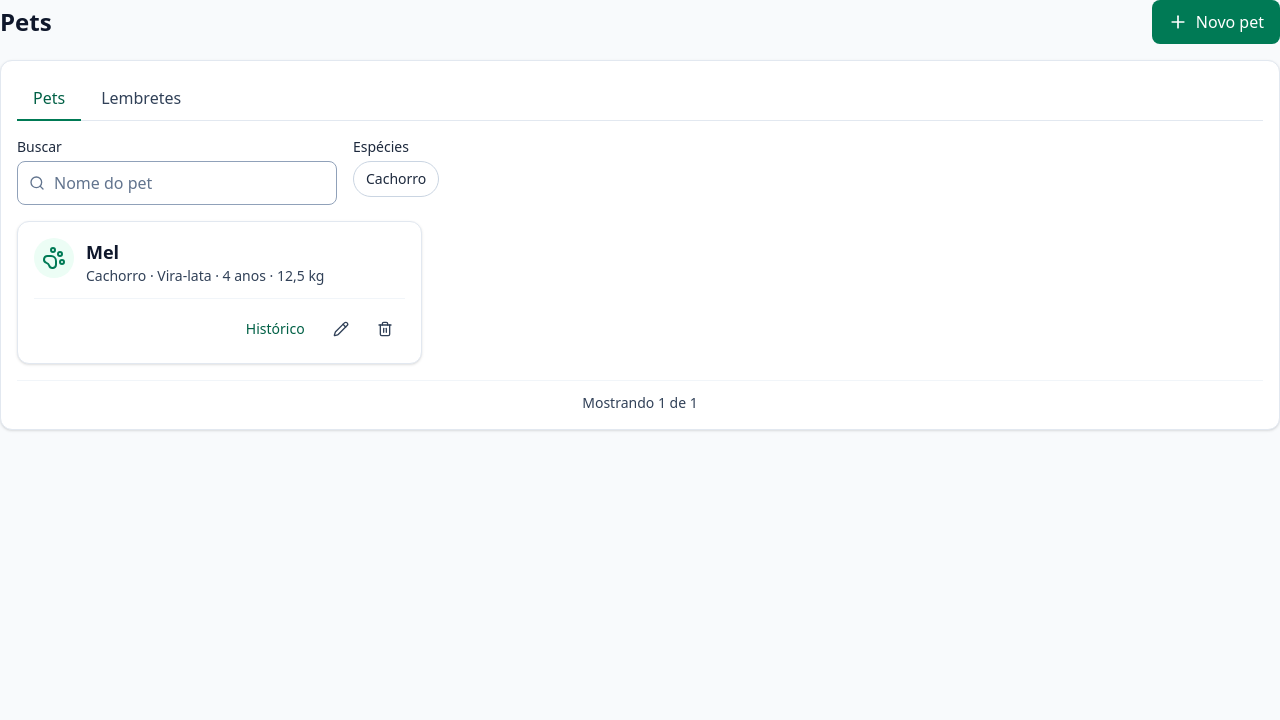
Test: PetsPage › deleting a pet warns that events go and expenses stay without the link
The image size is (1280, 720).
Click the button named "Excluir Mel" at (385, 329), box [365, 311, 405, 347]
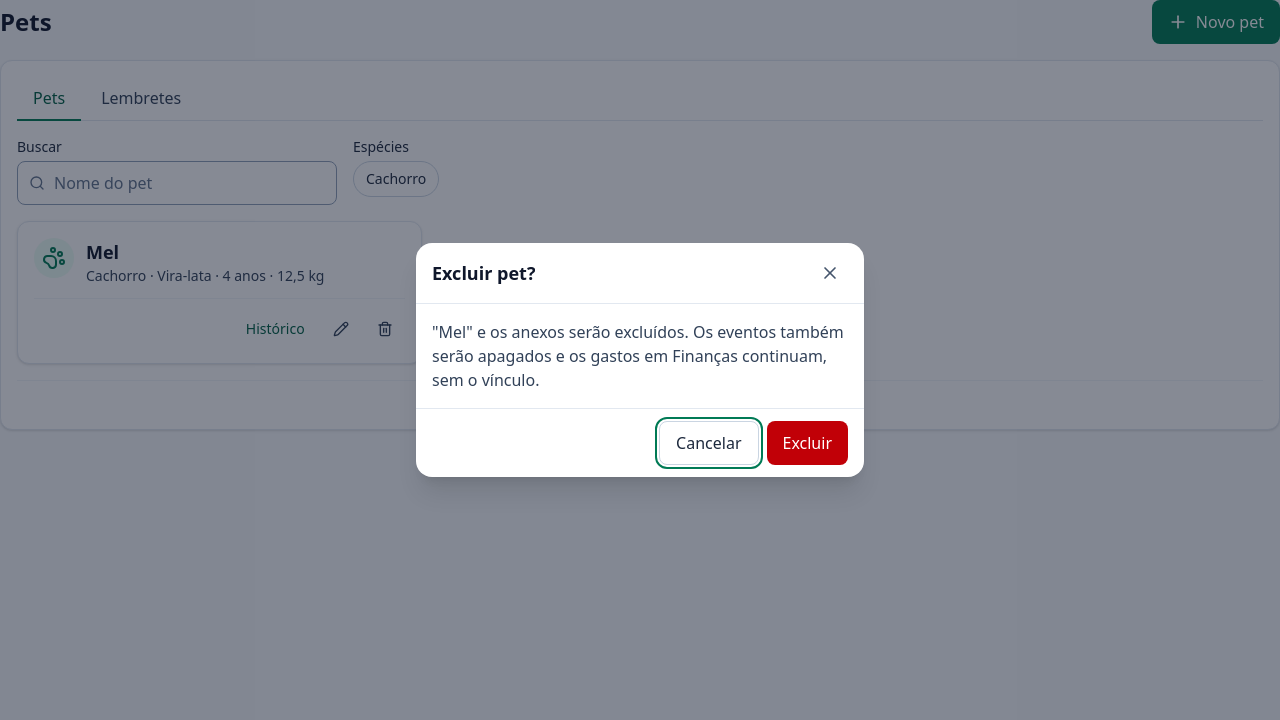
Now the dialog "Excluir pet?" shows "Os eventos também serão apagados e os gastos em Finanças continuam, sem o vínculo.", box [432, 321, 844, 391]
Click the button "Excluir" at (807, 443), box [766, 421, 848, 465]
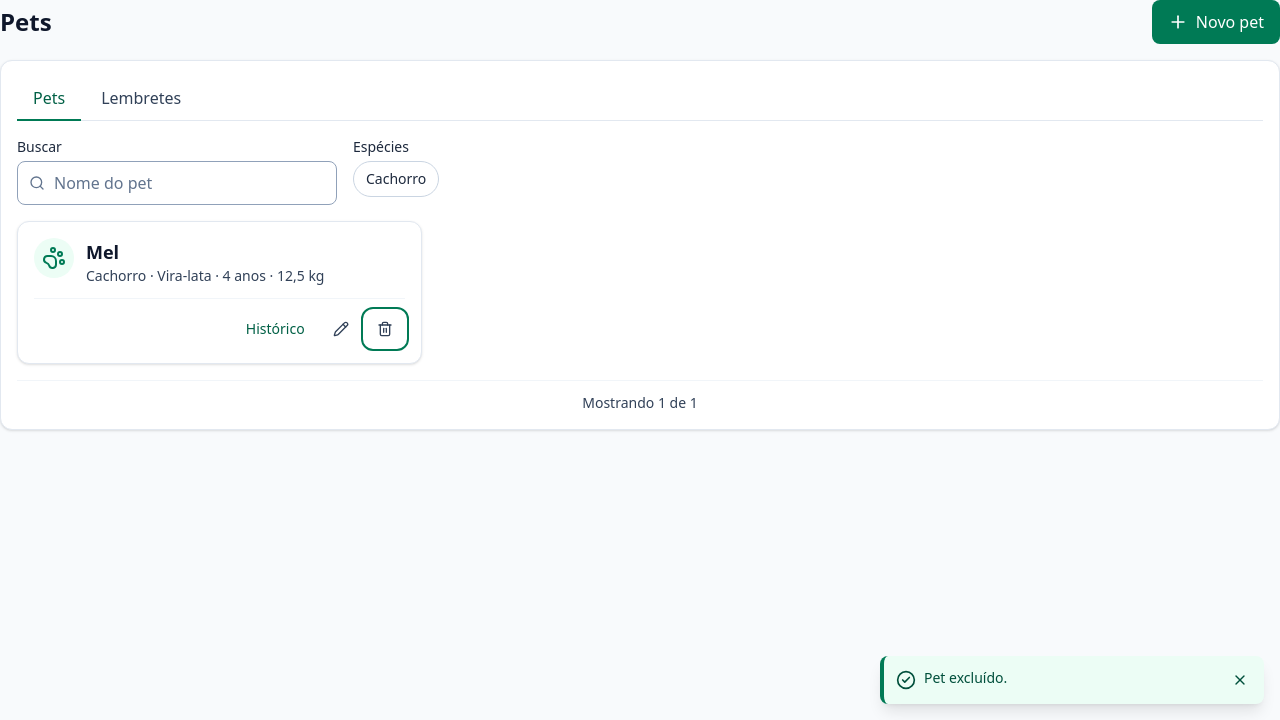
Now the text "Pet excluído." is shown, box [924, 668, 1007, 687]
